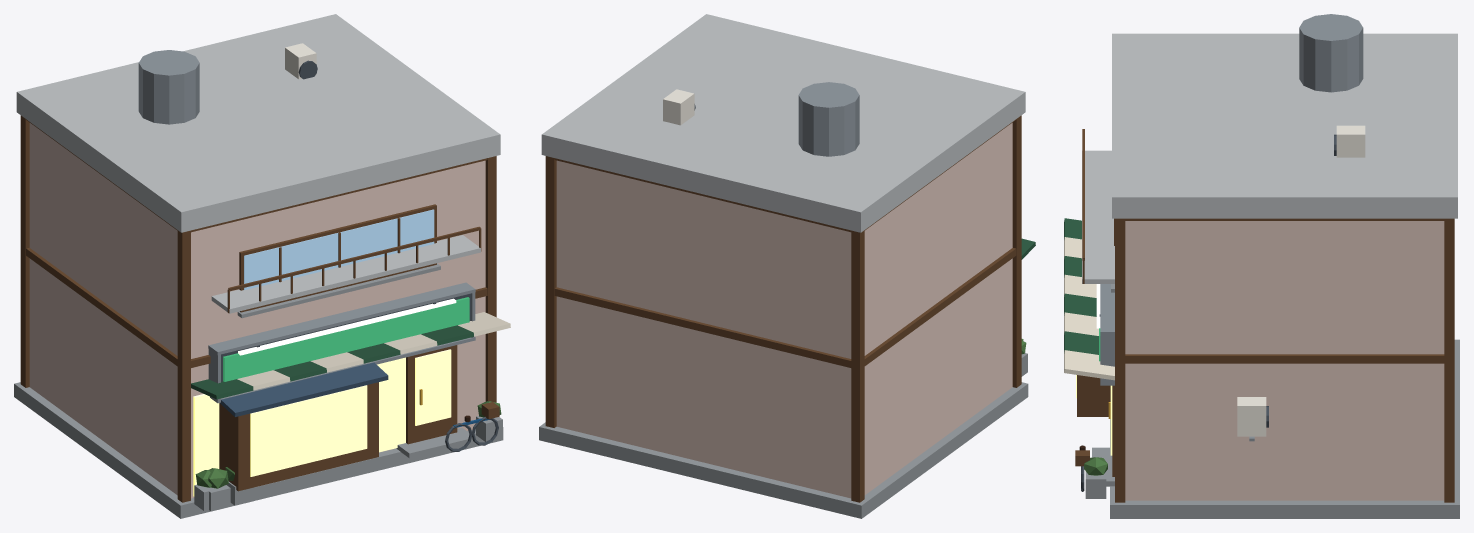
Rendered from shop_cafe_2f.glb.
3 renders of one model, left to right at view 1: azimuth 30°, elevation 25°; view 2: azimuth 150°, elevation 25°; view 3: azimuth 270°, elevation 25°, orthographic. The views are drawn at different scales.
Parts seen in each view (by area): view 1: body.013, parapet.004, bay_glass, base.013, win_glass.028, sign_face.013, balcony_slab.028, bay, shop_glass.013, water_tank.004, post.052, bay_roof (+22 smaller); view 2: body.013, parapet.004, base.013, beam.038, water_tank.004, post.053, post.055, post.052, beam.042, ac_body.019; view 3: body.013, parapet.004, base.013, water_tank.004, balcony_slab.028, beam.038, post.055, post.054, bay, ac_body.017, awning_stripe.007, ac_body.019 (+8 smaller).
Boxes of the visible parts, x1,y1,x2,y2 form: body.013: (29,123,485,498); parapet.004: (16,14,500,232); bay_glass: (250,385,367,476); base.013: (14,382,503,518); win_glass.028: (244,209,434,290); sign_face.013: (223,297,469,381); balcony_slab.028: (211,235,480,313); bay: (219,382,378,491); shop_glass.013: (193,357,405,496); water_tank.004: (138,50,199,124); post.052: (177,230,190,502); bay_roof: (220,362,388,416); body.013: (556,122,1012,498); parapet.004: (541,14,1025,232); base.013: (539,382,1028,518); beam.038: (554,248,1016,367); water_tank.004: (798,82,859,156); post.053: (851,230,864,502); post.055: (545,156,556,427); post.052: (1012,115,1021,387); beam.042: (554,119,1016,232); ac_body.019: (663,89,694,125); body.013: (1125,221,1444,500); parapet.004: (1112,33,1457,218); base.013: (1110,339,1459,518); water_tank.004: (1299,14,1363,92); balcony_slab.028: (1082,150,1114,283); beam.038: (1125,354,1444,363); post.055: (1444,218,1454,502); post.054: (1115,218,1125,502); bay: (1077,375,1110,416); ac_body.017: (1237,397,1266,436); awning_stripe.007: (1064,350,1114,380); ac_body.019: (1336,125,1365,157).
Bounding box in the file's own units: 7.84 × 8 × 7.67.
